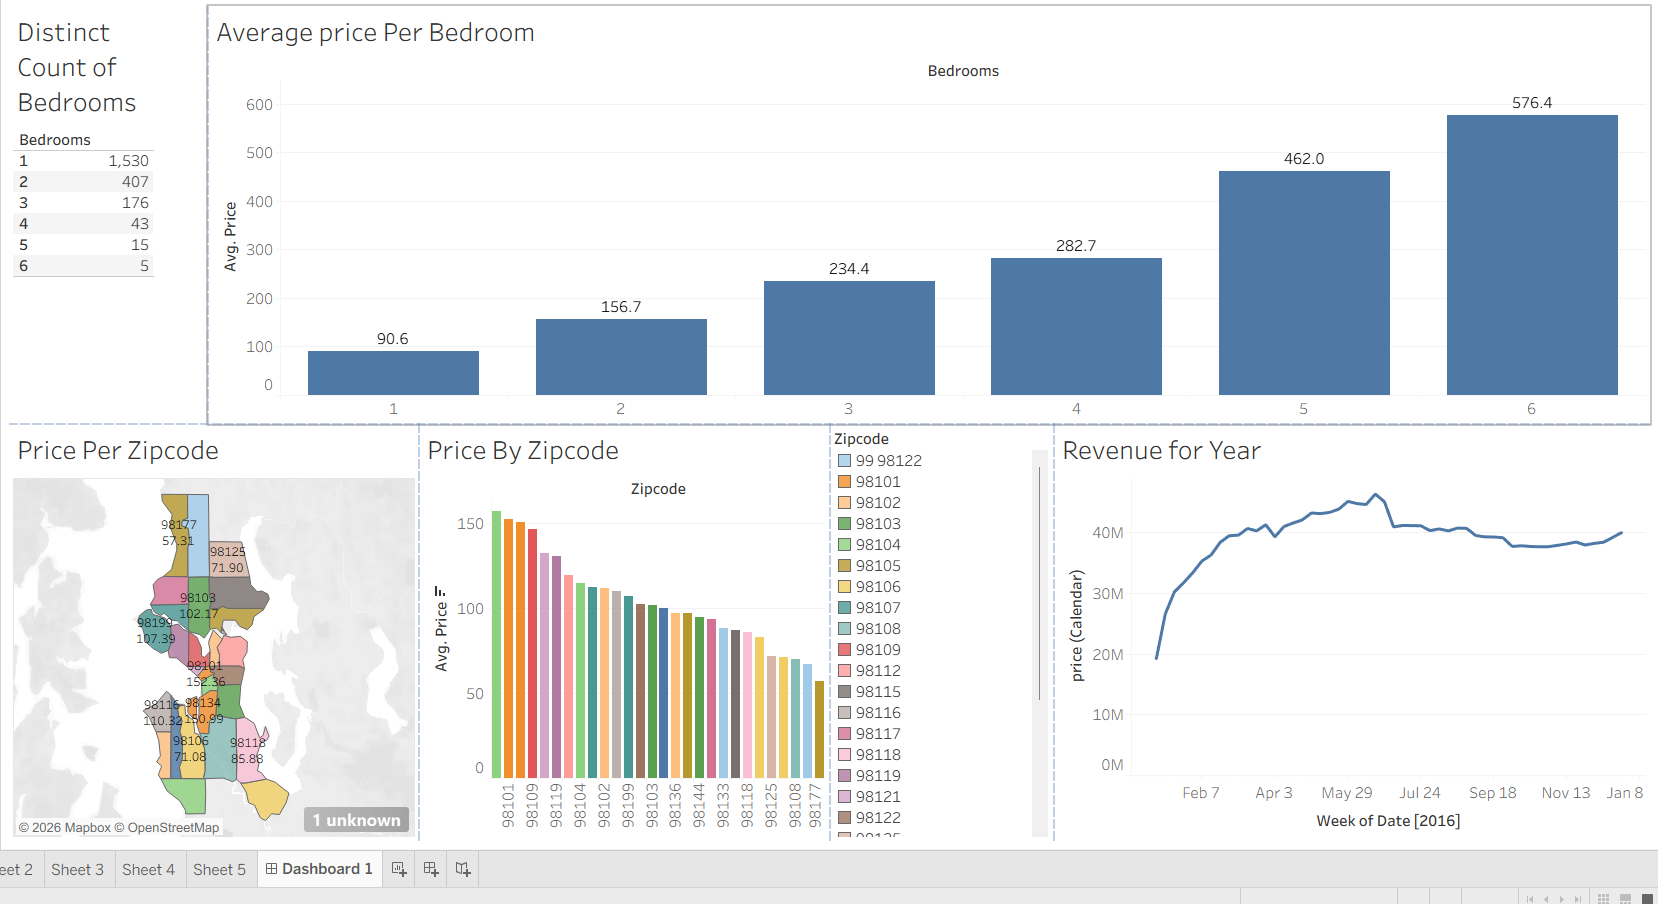

The dashboard page shown, as its layout file describes it:
{"tool":"tableau","page":{"name":"Dashboard 1","canvas":[1000,1000],"units":"permille","ordinal":0},"visuals":[{"type":"worksheet","title":"Sheet 5","mark":"Automatic","rows":["bedrooms"],"box":[4.8,9.4,120.1,490.6]},{"type":"worksheet","title":"Sheet 4","mark":"Automatic","rows":["price"],"cols":["bedrooms"],"box":[124.9,9.4,870.2,490.6]},{"type":"worksheet","title":"Sheet 2","mark":"Multipolygon","box":[4.8,500,247.6,490.6]},{"type":"worksheet","title":"Sheet 1","mark":"Automatic","rows":["price"],"cols":["zipcode"],"box":[252.4,500,247.6,490.6]},{"type":"legend","title":"Sheet 2","param":"[federated.0e5emt81anzmuc1crsk2r0zdya52].[none:zipcode:ok]","box":[500,500,135.5,490.6]},{"type":"worksheet","title":"Sheet 3","mark":"Automatic","rows":["price (Calendar)"],"cols":["date"],"box":[635.5,500,359.7,490.6]}]}

Visuals, with their boxes on the dashboard's canvas, which has no fixed pixel size, in thousandths of its width and height (x1, y1, x2, y2). These are canvas units, not pixel positions in the 1658x904 screenshot, which may show the page scaled, cropped or inside an application window:
"Sheet 5" worksheet: <box>5,9,125,500</box>
"Sheet 4" worksheet: <box>125,9,995,500</box>
"Sheet 2" worksheet (Multipolygon marks): <box>5,500,252,991</box>
"Sheet 1" worksheet: <box>252,500,500,991</box>
"Sheet 2" legend: <box>500,500,636,991</box>
"Sheet 3" worksheet: <box>636,500,995,991</box>
